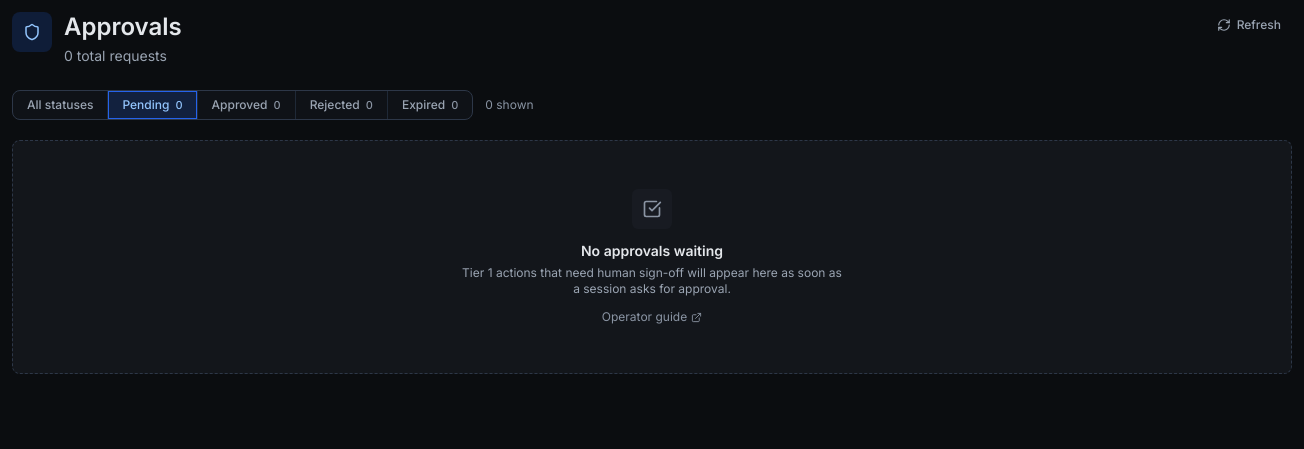
Approvals page › uses a pending-specific empty state before the onboarding all-status branch
The width and height of the screenshot is (1304, 449).
Expected: the heading "No approvals waiting" is shown, top-left (581, 241), bottom-right (723, 261)
Expected: the text "Tier 1 actions that need human sign-off will appear here" is shown, top-left (462, 265), bottom-right (842, 296)
Step 1. Click the button "All statuses" → point(60, 105), box top-left (13, 91), bottom-right (108, 119)
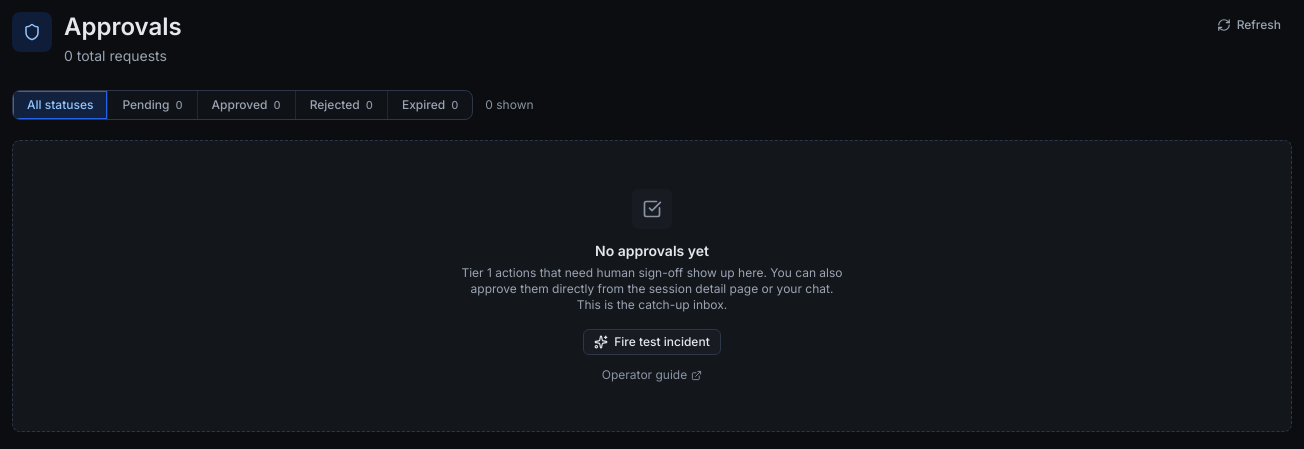
Result: the heading "No approvals yet" is shown at top-left (595, 241), bottom-right (709, 261)
Result: the link "Fire test incident" is shown at top-left (583, 329), bottom-right (721, 355)
